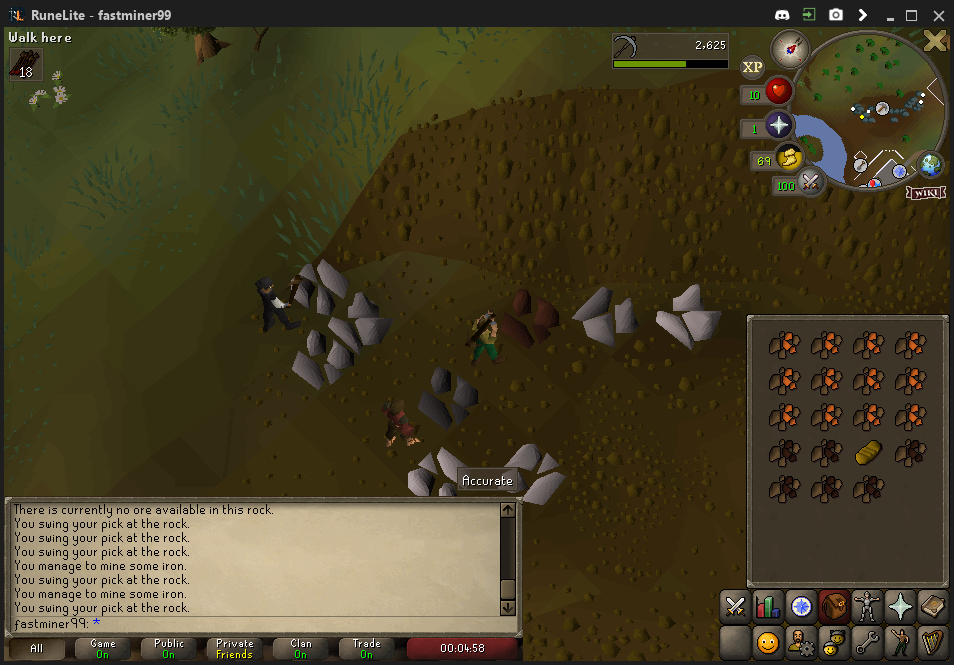depleted: (412, 362, 477, 430)
ore: (498, 289, 567, 347)
